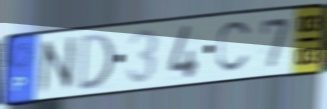3: (126, 26, 162, 87)
4: (167, 22, 200, 82)
7: (259, 15, 291, 70)
C: (214, 18, 255, 76)
D: (76, 30, 118, 94)
N: (37, 33, 77, 98)
